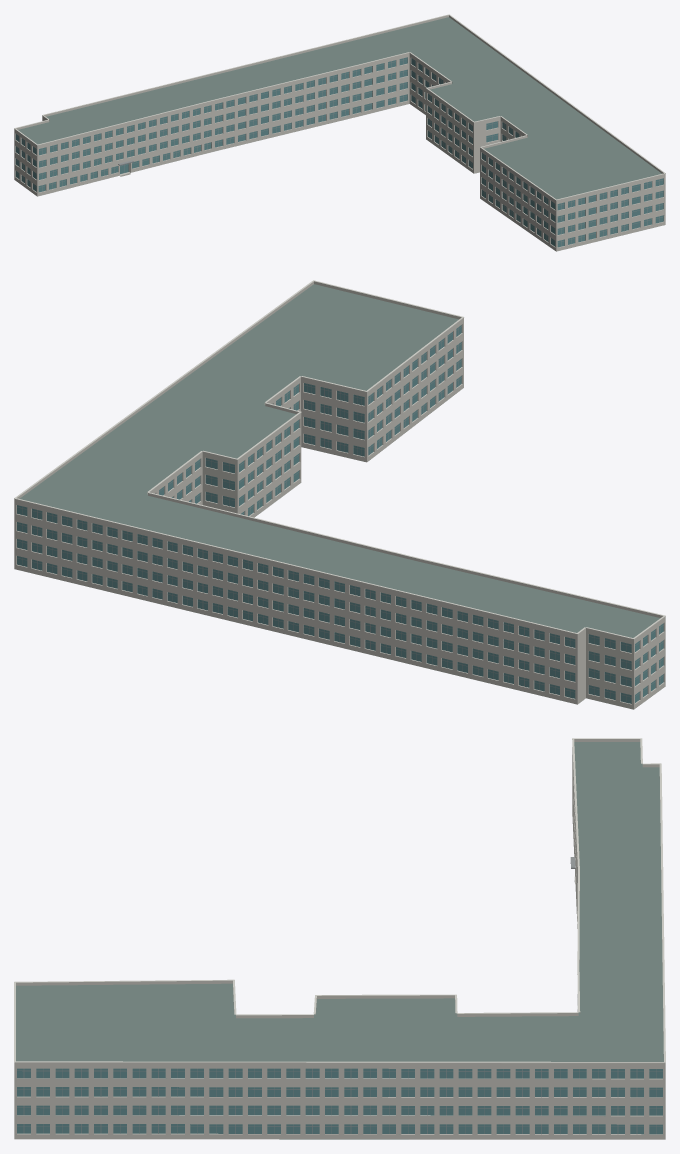
The picture shows the model from 3 angles, top to bottom: view 1: azimuth 30°, elevation 25°; view 2: azimuth 150°, elevation 25°; view 3: azimuth 270°, elevation 25°; orthographic projection. The views are drawn at different scales.
Visible parts, largest first — view 1: twoSouth__roof, twoSouth__wall, twoSouth__glass, twoSouth__parapet, twoSouth__frame, twoSouth__trim; view 2: twoSouth__roof, twoSouth__wall, twoSouth__glass, twoSouth__parapet, twoSouth__frame, twoSouth__trim; view 3: twoSouth__roof, twoSouth__wall, twoSouth__glass, twoSouth__parapet, twoSouth__trim, twoSouth__frame.
Boxes of the visible parts, box(x1,y1,x2,y2) form: twoSouth__roof: box(18, 17, 661, 199); twoSouth__wall: box(14, 54, 665, 251); twoSouth__glass: box(15, 57, 663, 247); twoSouth__parapet: box(14, 15, 665, 202); twoSouth__frame: box(16, 58, 663, 246); twoSouth__trim: box(14, 14, 665, 200); twoSouth__roof: box(19, 284, 660, 703); twoSouth__wall: box(14, 320, 665, 709); twoSouth__glass: box(17, 325, 663, 703); twoSouth__parapet: box(14, 281, 665, 641); twoSouth__frame: box(17, 326, 663, 702); twoSouth__trim: box(14, 280, 665, 639); twoSouth__roof: box(16, 742, 663, 1139); twoSouth__wall: box(14, 748, 665, 1139); twoSouth__glass: box(17, 1068, 662, 1134); twoSouth__parapet: box(14, 739, 665, 1065); twoSouth__trim: box(14, 738, 665, 1063); twoSouth__frame: box(17, 1068, 662, 1134).
Bounding box in the file's own units: 135 × 15.4 × 115.
